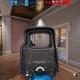Character: (30, 40, 36, 46)
Friend_label: (24, 33, 30, 37), (17, 35, 24, 38)
